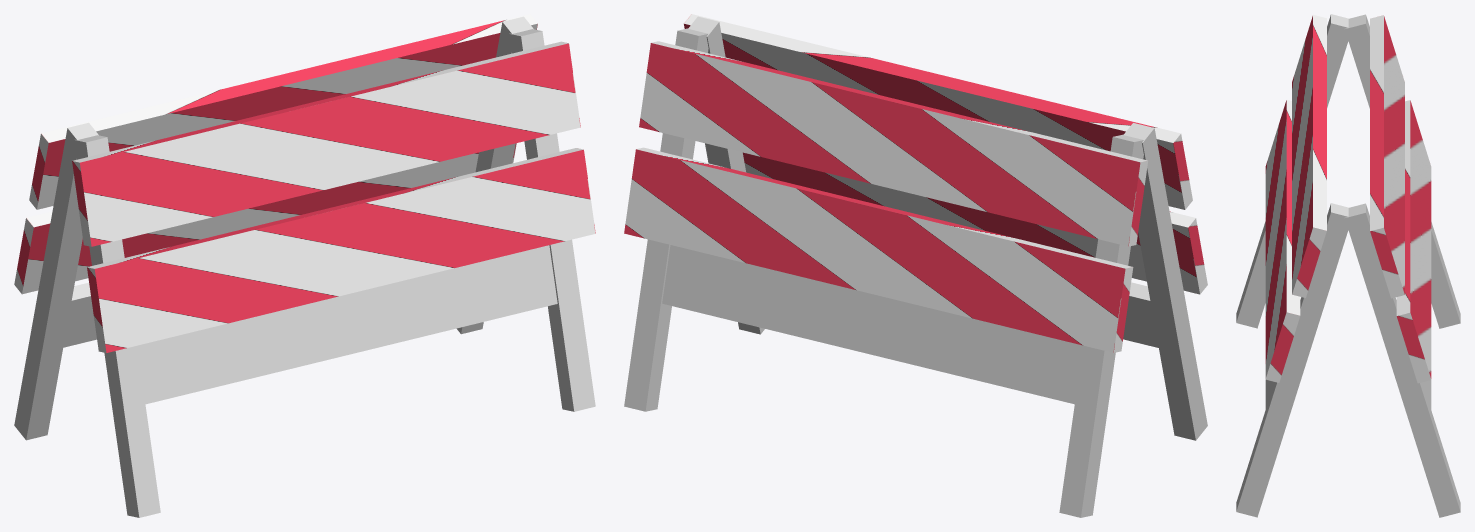
The model's file is roadblock.fbx.
The picture shows the model from 3 angles, left to right: view 1: azimuth 30°, elevation 25°; view 2: azimuth 150°, elevation 25°; view 3: azimuth 270°, elevation 25°; orthographic projection. The views are drawn at different scales.
Parts seen in each view (by area): view 1: Plane.002, Plane.003, Cube.001, Plane, Cube.002, Plane.001; view 2: Plane, Plane.001, Cube.002, Plane.002, Cube.001, Plane.003; view 3: Cube.002, Cube.001, Plane, Plane.002, Plane.001, Plane.003.
Boxes of the visible parts, x1,y1,x2,y2 form: Plane.002: [72, 41, 580, 246]; Plane.003: [87, 148, 595, 352]; Cube.001: [74, 29, 595, 517]; Plane: [29, 14, 537, 209]; Cube.002: [14, 16, 533, 440]; Plane.001: [14, 143, 516, 294]; Plane: [639, 41, 1147, 246]; Plane.001: [624, 147, 1133, 352]; Cube.002: [624, 28, 1143, 517]; Plane.002: [684, 14, 1192, 209]; Cube.001: [688, 16, 1207, 440]; Plane.003: [705, 143, 1207, 294]; Cube.002: [1344, 14, 1460, 517]; Cube.001: [1236, 14, 1348, 517]; Plane: [1370, 15, 1404, 298]; Plane.002: [1292, 14, 1326, 297]; Plane.001: [1396, 100, 1431, 383]; Plane.003: [1265, 100, 1300, 382].
Bounding box in the file's own units: 293 × 196 × 130.
1 material, 1 textured.
